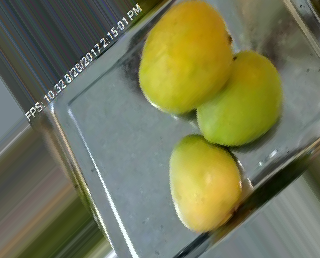Mango: (139, 1, 237, 114), (192, 49, 286, 146), (167, 132, 252, 233)
